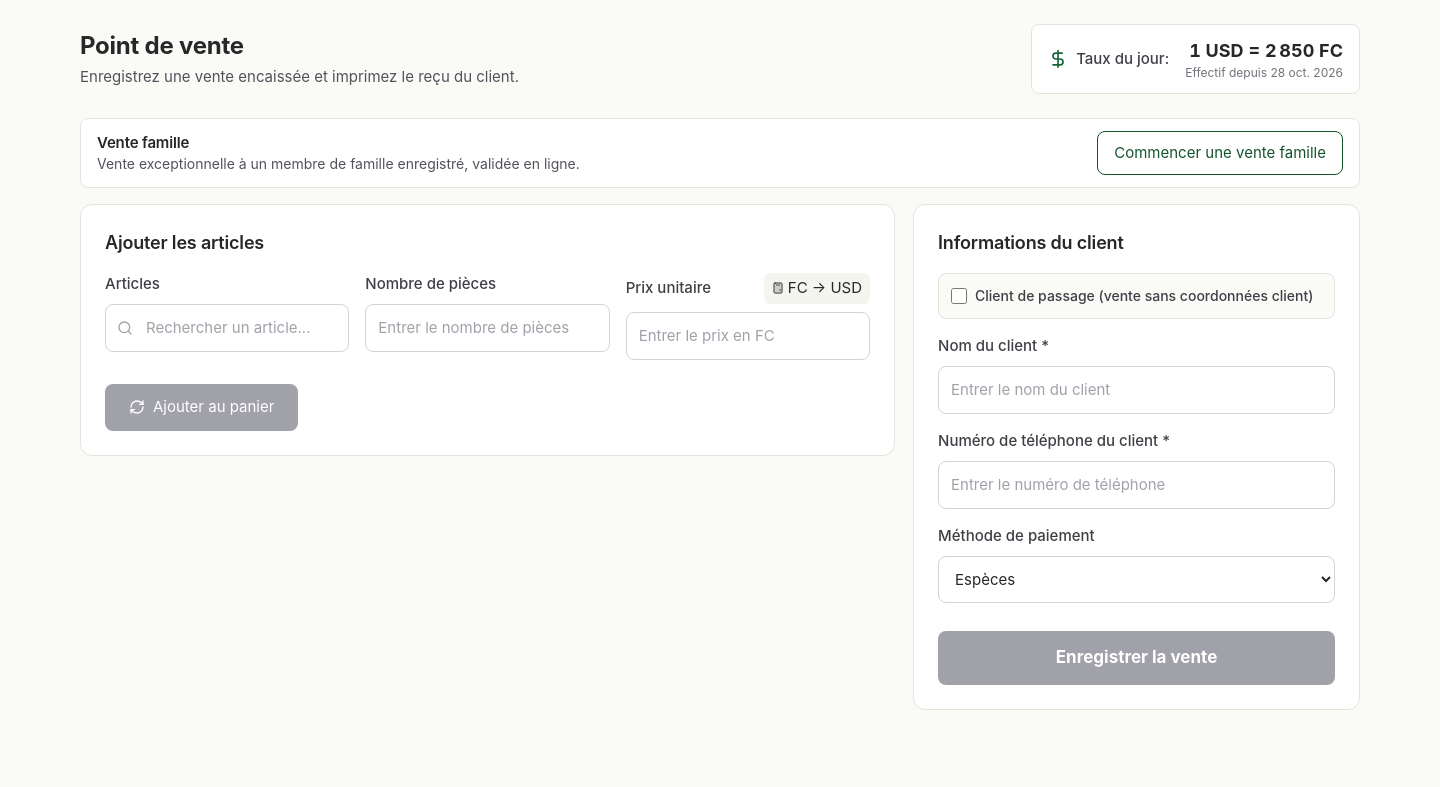
Vente famille: without the server the mode cannot start and nothing is sold or queued
In the field with placeholder "Rechercher un article...": point(227, 328) [105, 304, 349, 352], type "Robe"
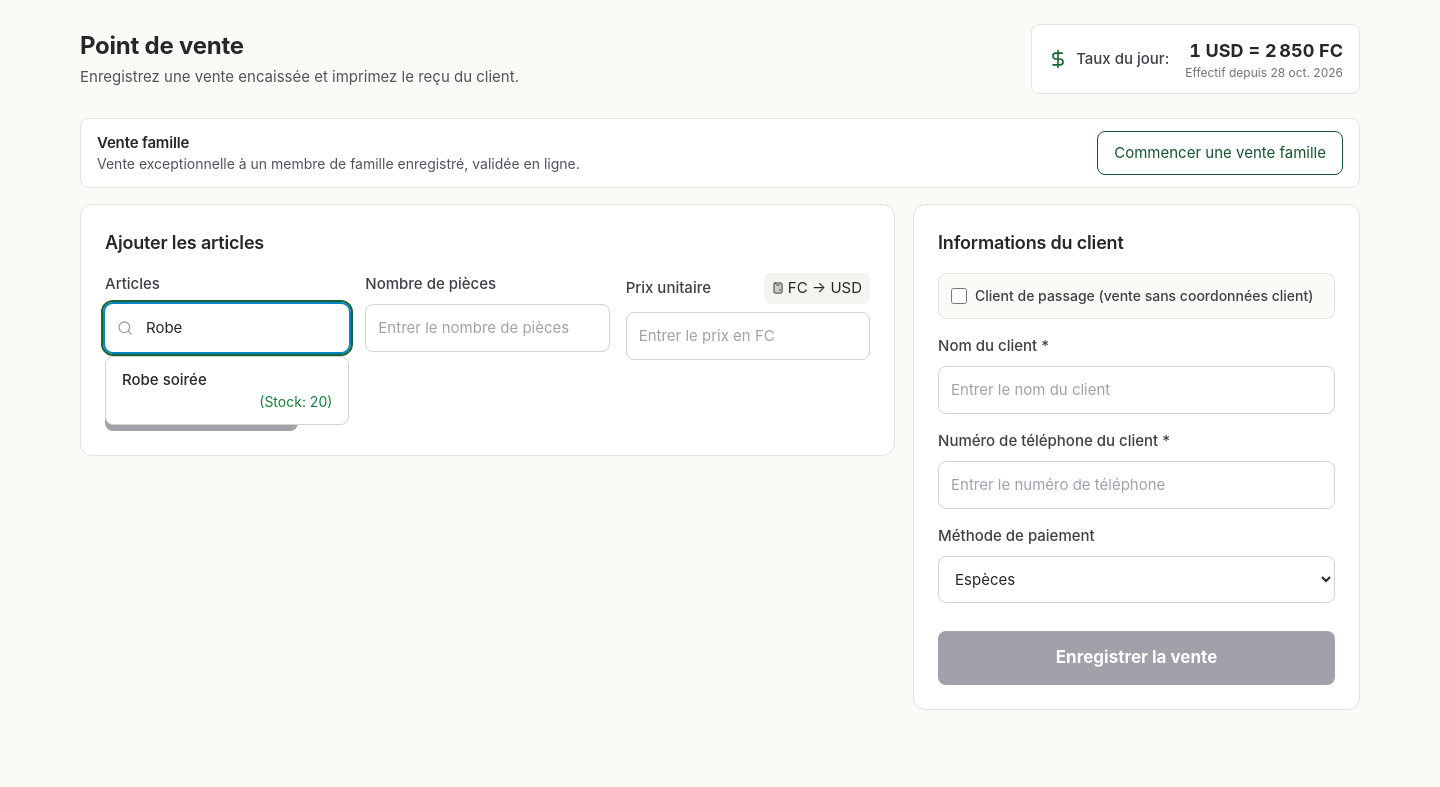
Click the text "Robe soirée": point(164, 380) [122, 370, 207, 389]
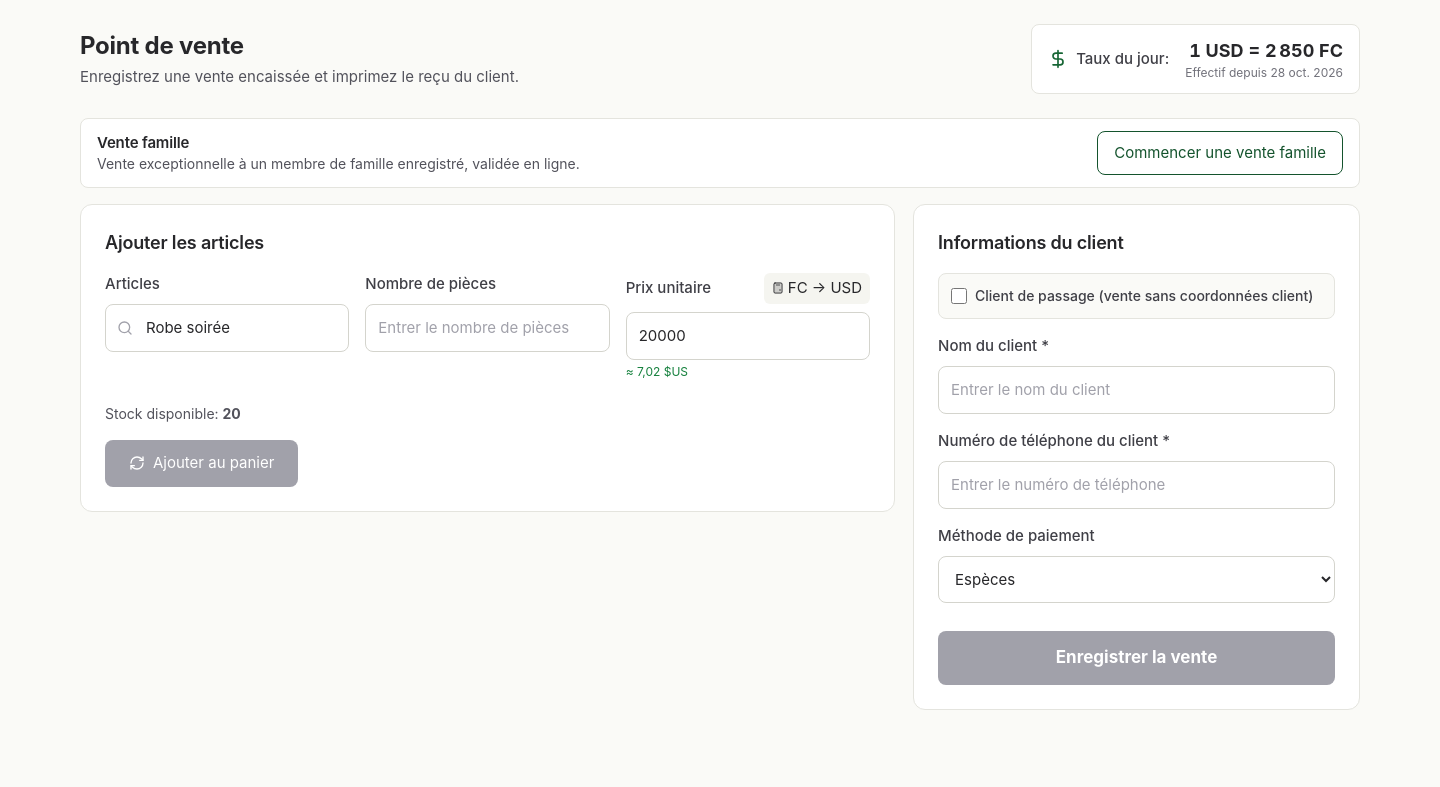
In the number field with placeholder "Entrer le nombre de pièces": point(487, 328) [365, 304, 610, 352], type "1"
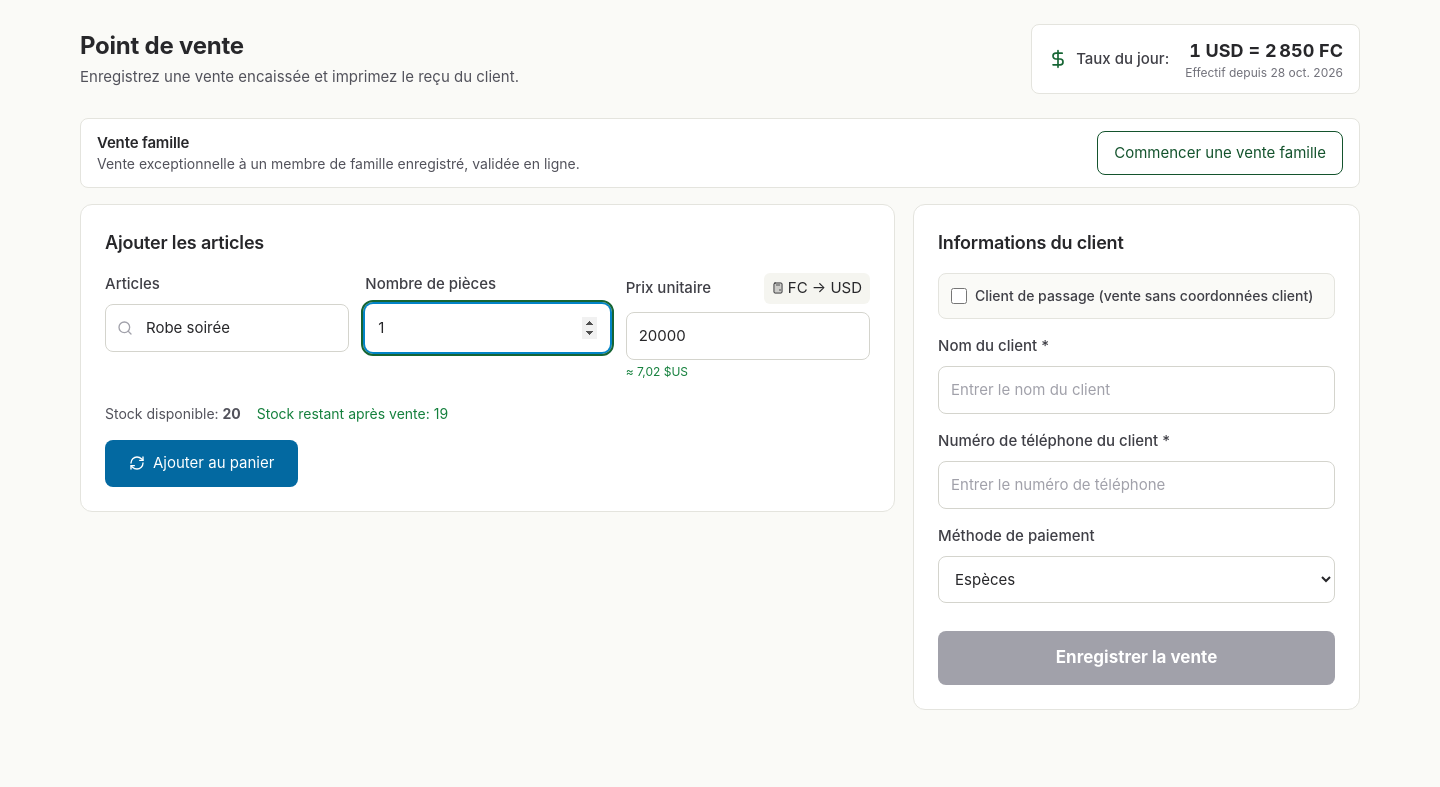
Click the button "Ajouter au panier": point(202, 463) [105, 440, 298, 486]
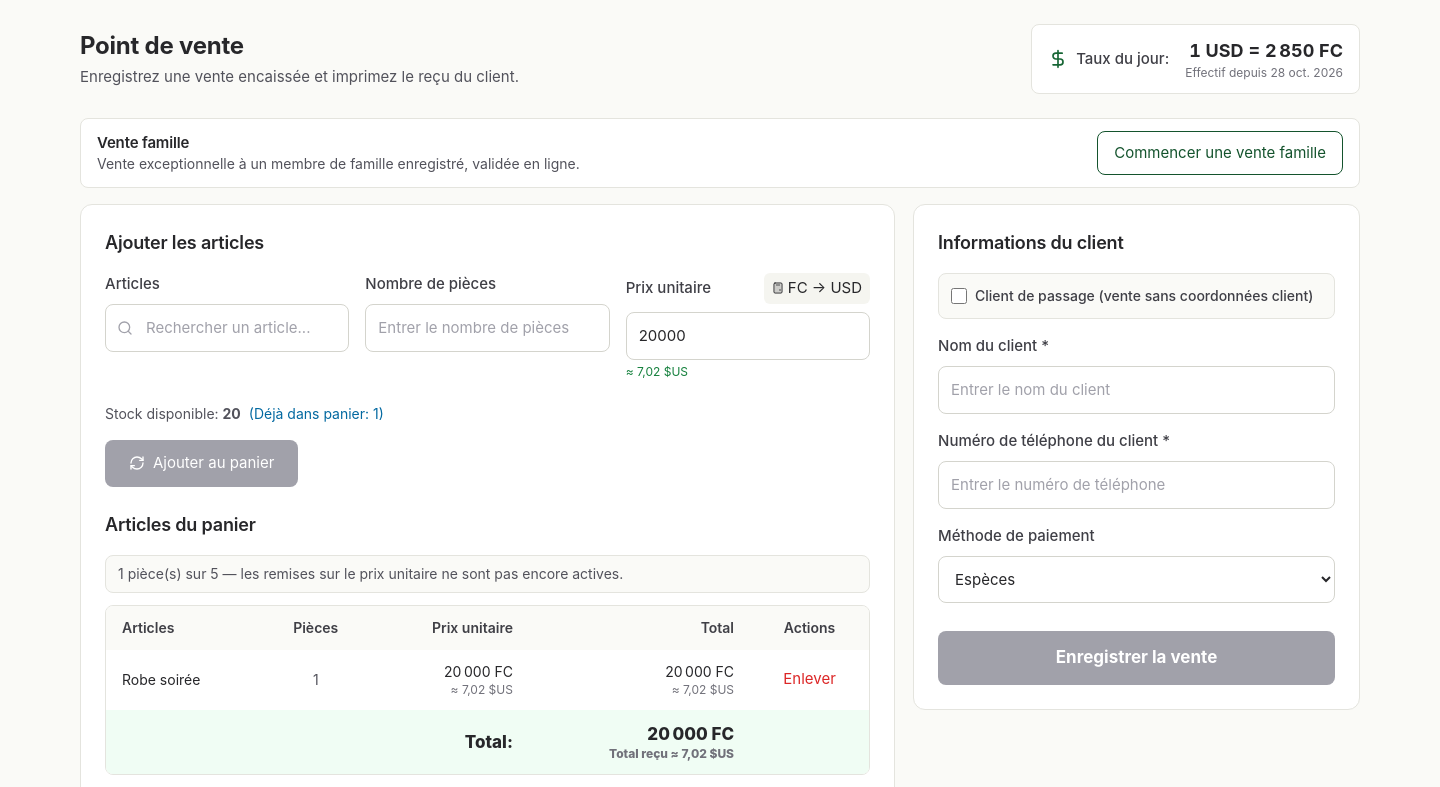
Click the button "Commencer une vente famille": point(1220, 153) [1097, 131, 1343, 175]
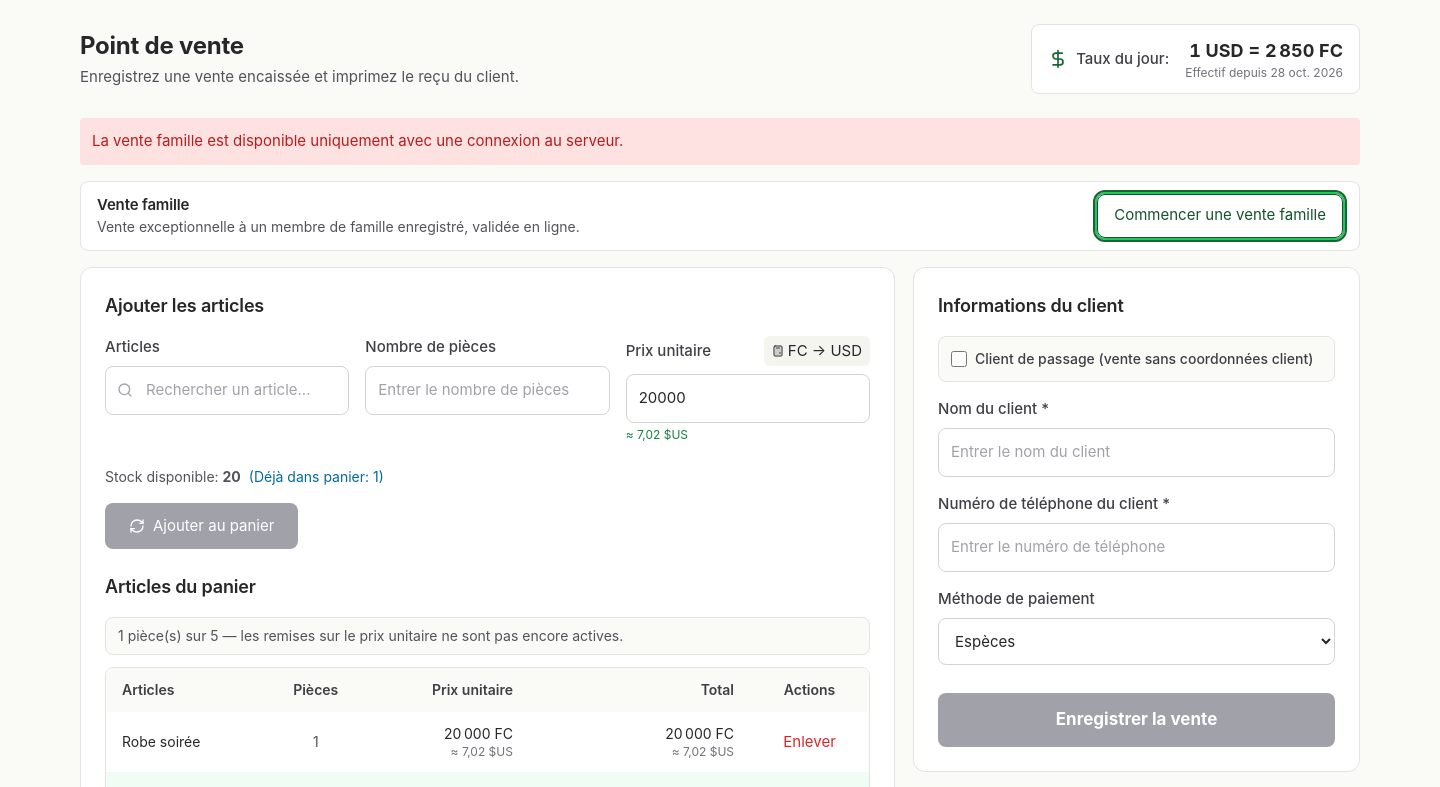
Check: the text "La vente famille est disponible uniquement avec une connexion au serveur." is shown, box [80, 118, 1360, 164]
